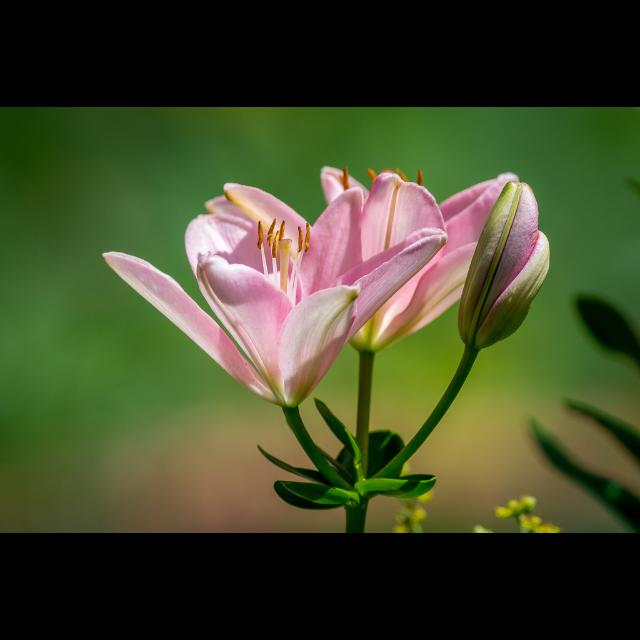Flower: (94, 158, 534, 454), (498, 497, 560, 533), (391, 492, 434, 532)
